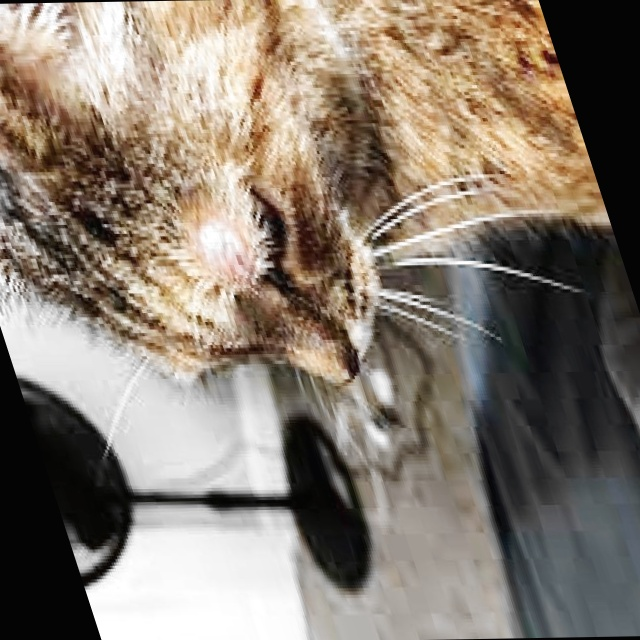lump_and_bump: (178, 215, 274, 299)
